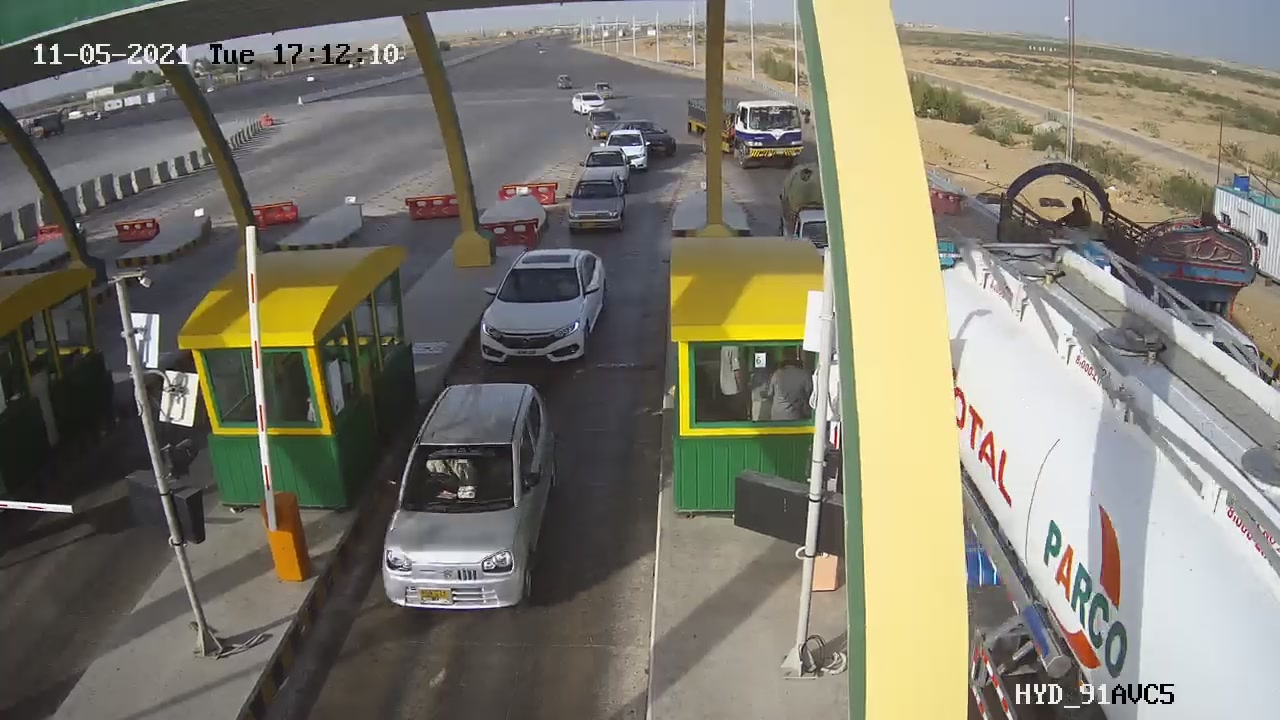F1: (369, 369, 579, 624), (463, 238, 625, 391)
